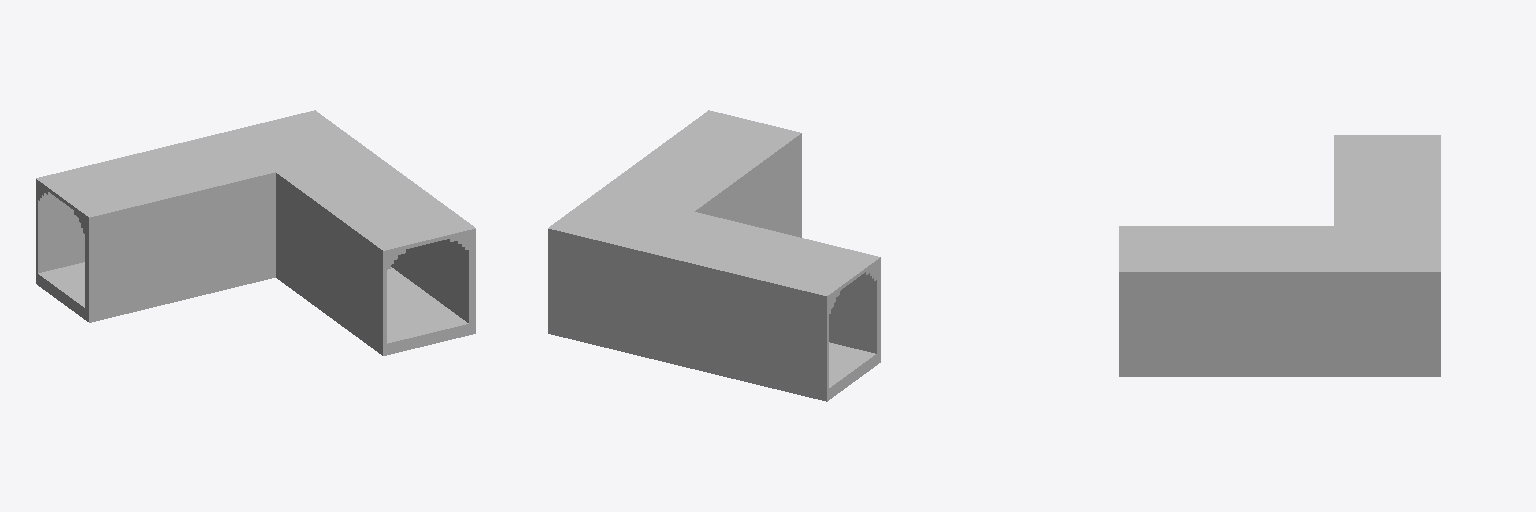
Rendered from Basic Corner.obj.
3 renders of one model, left to right at view 1: azimuth 30°, elevation 25°; view 2: azimuth 150°, elevation 25°; view 3: azimuth 270°, elevation 25°, orthographic.
Size of the model in its own units: 75 by 27 by 75.